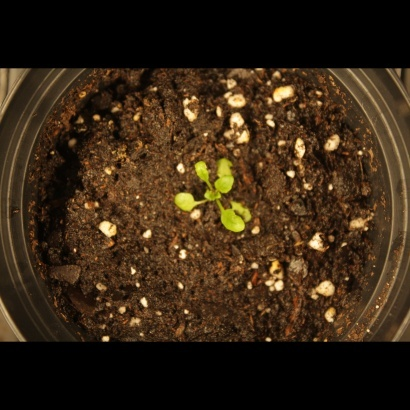leaf: (172, 190, 200, 218), (221, 206, 247, 235), (189, 159, 213, 185), (215, 156, 238, 180), (231, 201, 254, 224), (214, 175, 237, 198)
